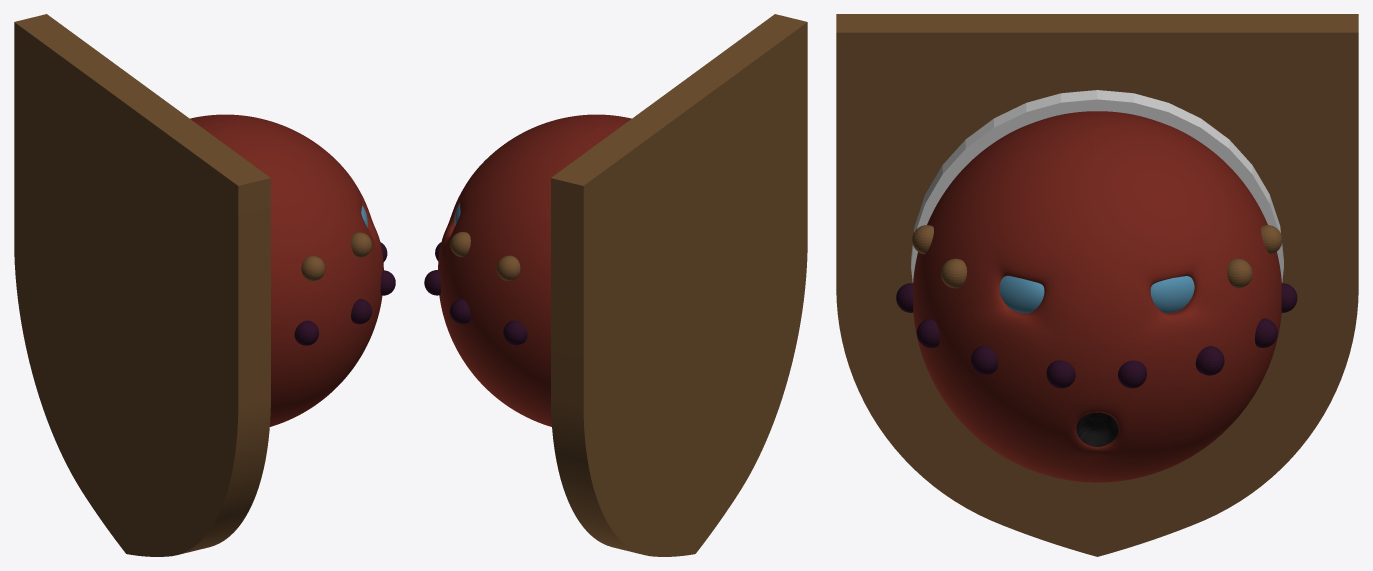
File: cara1.obj
3 renders of one model, left to right at view 1: azimuth 30°, elevation 25°; view 2: azimuth 150°, elevation 25°; view 3: azimuth 270°, elevation 25°, orthographic. The views are drawn at different scales.
Parts seen in each view (by area): view 1: marco, cabeza, cuerno.003, cuerno.004; view 2: marco, cabeza, cuerno.002, cuerno.005; view 3: marco, cabeza, marco2, ojo_1, ojo2, cuerno.012, cuerno.011, cuerno.009, cuerno.001.
Part boxes in pixels (x1=…): marco: x1=14, y1=14, x2=270, y2=556; cabeza: x1=190, y1=114, x2=383, y2=426; cuerno.003: x1=301, y1=255, x2=325, y2=281; cuerno.004: x1=294, y1=320, x2=318, y2=345; marco: x1=551, y1=14, x2=807, y2=556; cabeza: x1=438, y1=114, x2=631, y2=426; cuerno.002: x1=496, y1=255, x2=520, y2=280; cuerno.005: x1=503, y1=320, x2=527, y2=345; marco: x1=836, y1=14, x2=1358, y2=556; cabeza: x1=913, y1=111, x2=1281, y2=482; marco2: x1=911, y1=90, x2=1283, y2=282; ojo_1: x1=999, y1=276, x2=1044, y2=313; ojo2: x1=1150, y1=276, x2=1194, y2=313; cuerno.012: x1=1046, y1=360, x2=1075, y2=388; cuerno.011: x1=1118, y1=360, x2=1146, y2=388; cuerno.009: x1=971, y1=345, x2=998, y2=374; cuerno.001: x1=941, y1=258, x2=967, y2=288.
Size of the model in its own units: 3.31 by 5.84 by 5.27.
